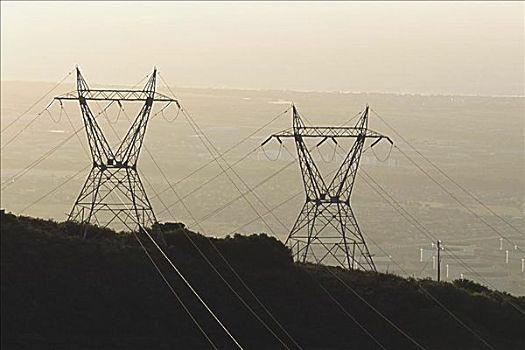power_tower: (262, 102, 394, 280), (57, 63, 183, 235)
